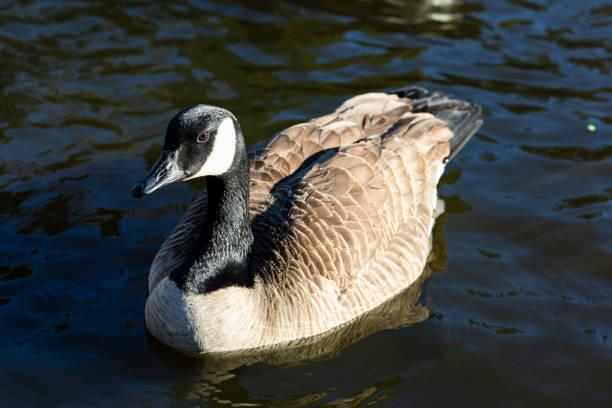Canadian-Goose: (122, 76, 482, 343)
